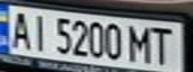0: (103, 20, 127, 61), (87, 19, 106, 60)
2: (69, 16, 90, 57)
5: (48, 13, 72, 55)
A: (6, 8, 33, 50)
I: (27, 11, 51, 52)
M: (127, 22, 157, 63)
T: (145, 25, 181, 65)
